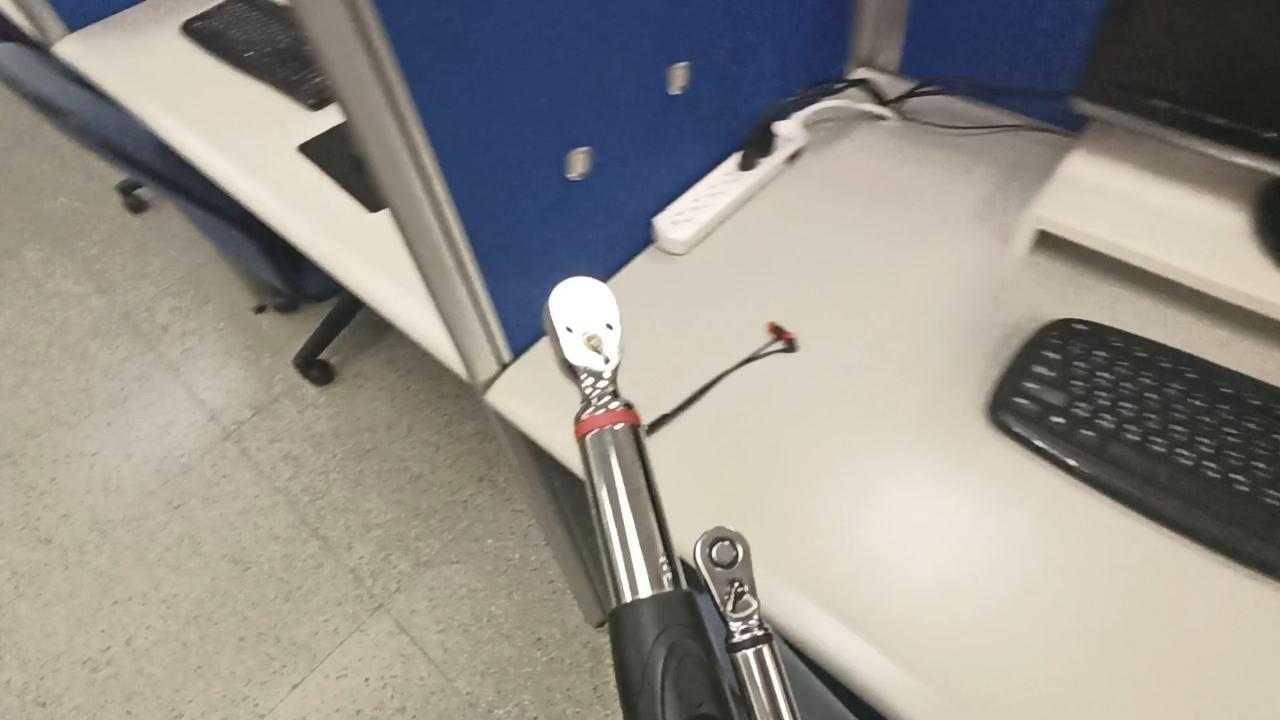Tool: (544, 268, 642, 434), (694, 527, 764, 629)
